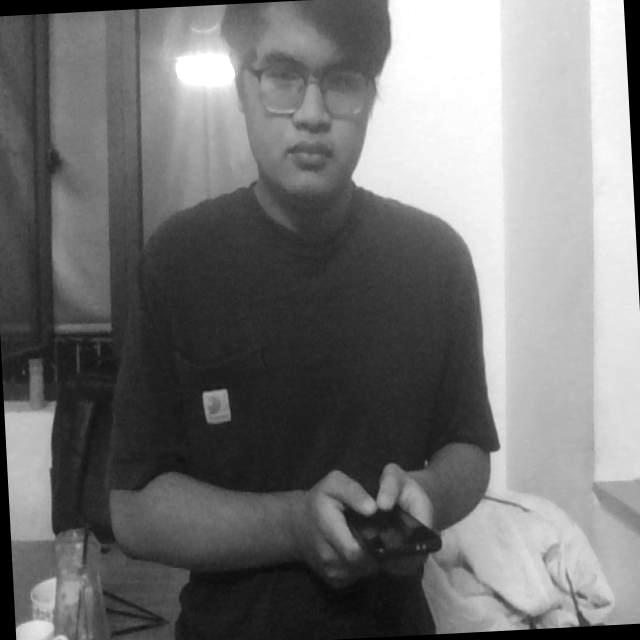phone: (331, 471, 452, 574)
